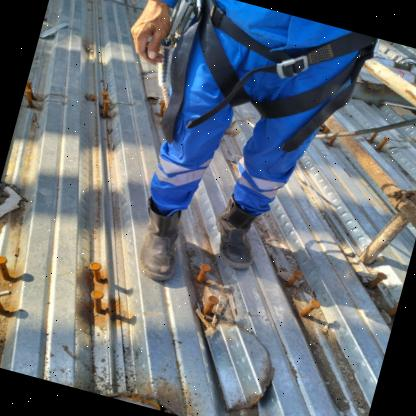bota: (120, 185, 200, 287), (204, 192, 274, 278)
